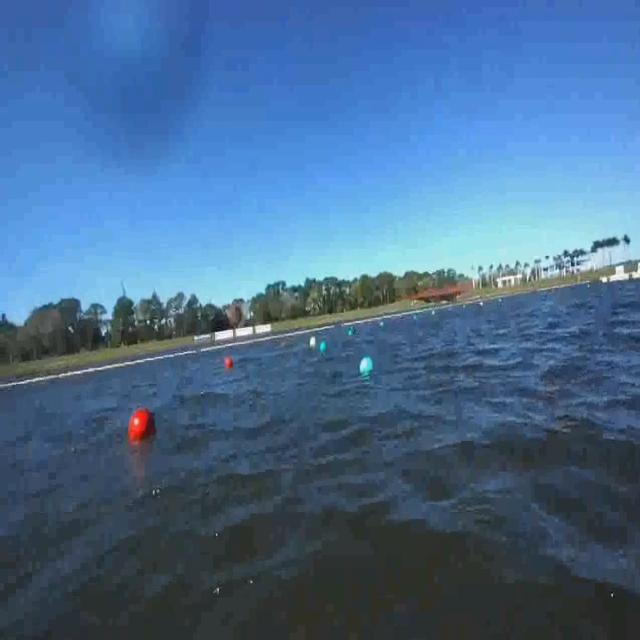green-buoy: (360, 354, 373, 375), (319, 342, 327, 353)
red-buoy: (128, 407, 159, 444), (224, 356, 233, 371)
yellow-buoy: (310, 337, 318, 351)
